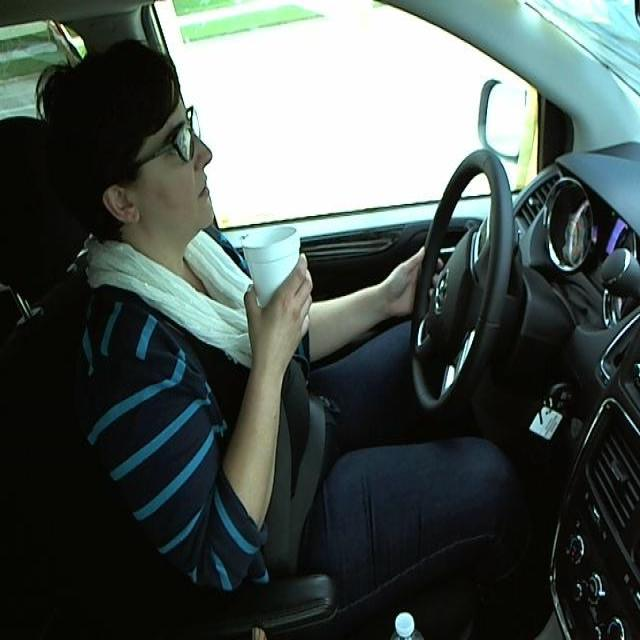Seatbelt: (239, 222, 303, 322)
